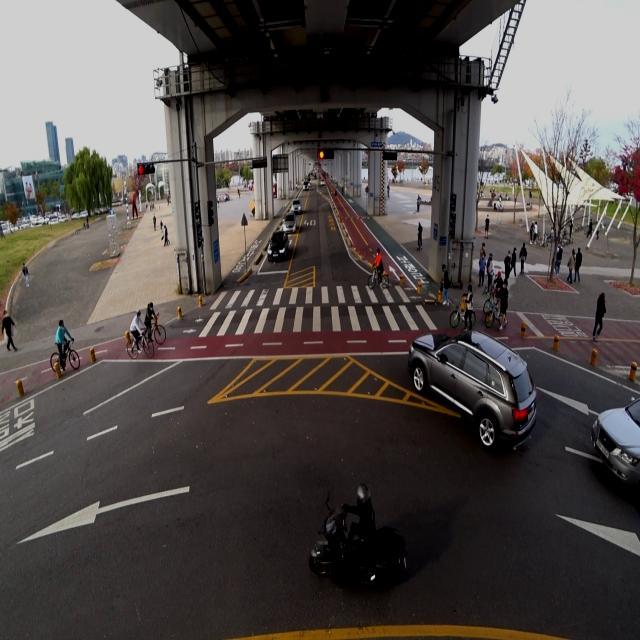Car: (402, 319, 542, 454), (587, 367, 640, 515), (266, 224, 290, 264), (283, 211, 296, 239), (290, 194, 303, 219), (300, 179, 310, 193)
Motorcycle: (306, 482, 406, 589)
